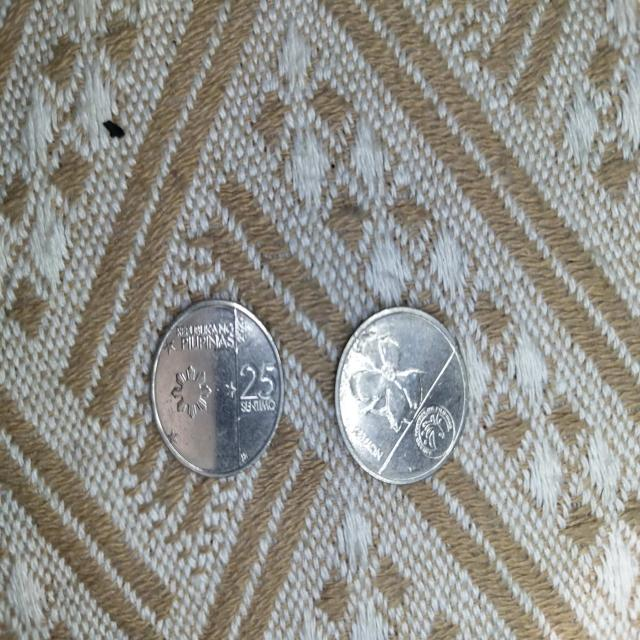25 cents: (145, 298, 290, 478), (333, 308, 469, 483)
